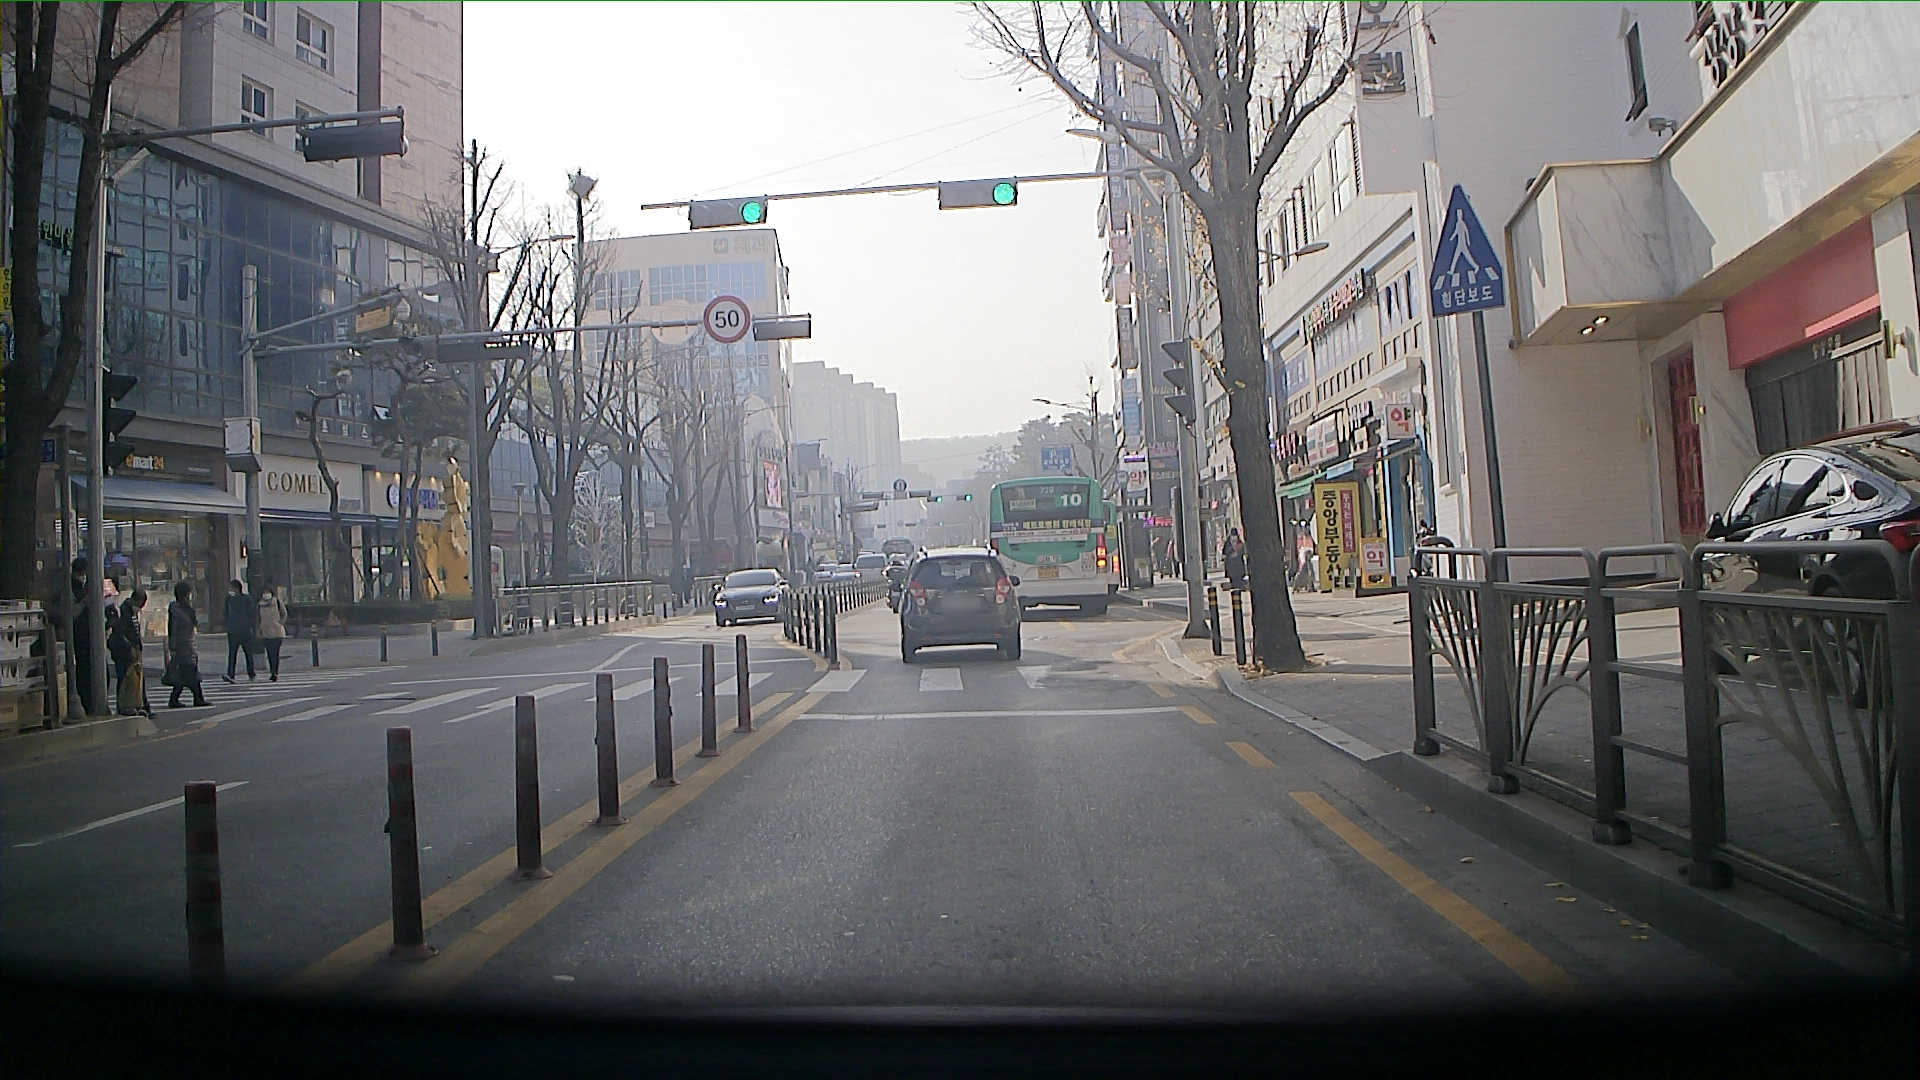trafficLight: (936, 177, 1018, 214), (684, 193, 766, 227)
trafficSignCircle: (702, 293, 749, 342)
trafficSignTri: (1427, 185, 1503, 315)
